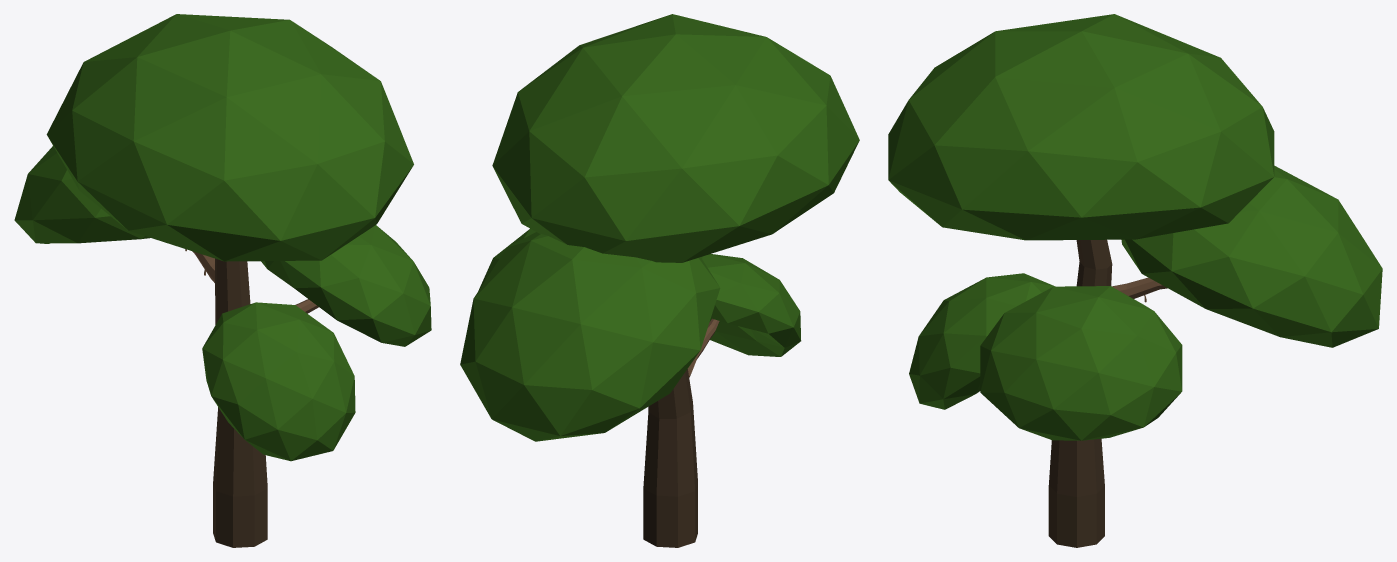
The model's file is orchard-tree.lod0.glb.
3 views of the same model, side by side, from view 1: azimuth 30°, elevation 25°; view 2: azimuth 150°, elevation 25°; view 3: azimuth 270°, elevation 25° (orthographic).
Parts seen in each view (by area): view 1: Cylinder.000_Material.004_0; view 2: Cylinder.000_Material.004_0; view 3: Cylinder.000_Material.004_0.
Part boxes in pixels (x1=…): Cylinder.000_Material.004_0: x1=14, y1=14, x2=431, y2=547; Cylinder.000_Material.004_0: x1=460, y1=14, x2=859, y2=547; Cylinder.000_Material.004_0: x1=888, y1=14, x2=1382, y2=547.
Size of the model in its own units: 3.15 by 4.5 by 4.02.
